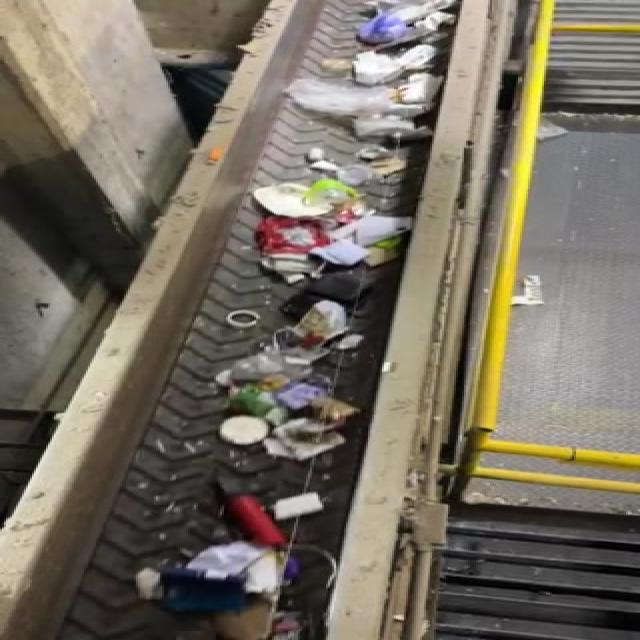pet: (208, 477, 295, 550)
pp: (146, 566, 258, 623)
